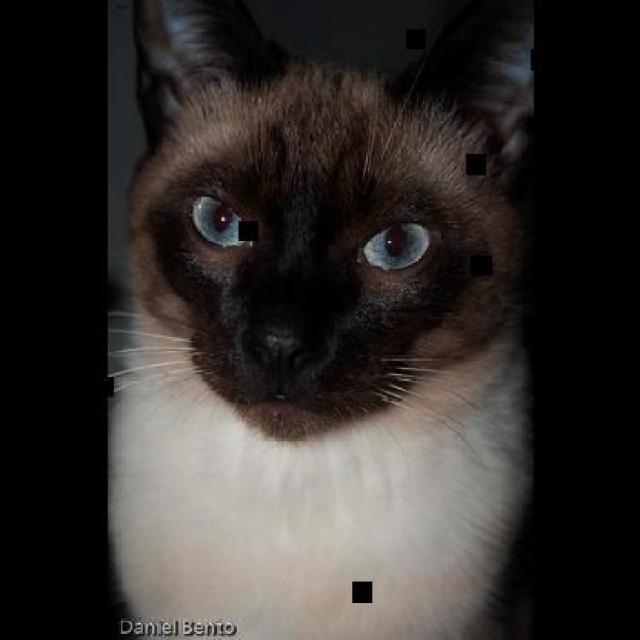unauthorized: (106, 0, 535, 638)
